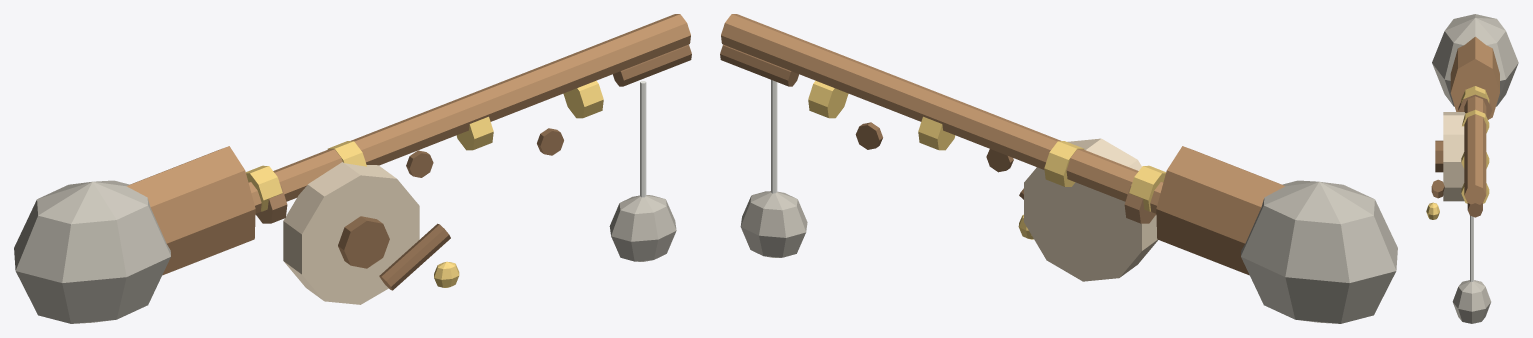
The picture shows the model from 3 angles, left to right: view 1: azimuth 30°, elevation 25°; view 2: azimuth 150°, elevation 25°; view 3: azimuth 270°, elevation 25°; orthographic projection. The views are drawn at different scales.
Visible parts, largest first — view 1: faceted stone pommel, main tapered wooden rod, round cream reel body, rounded handle grip, round stone lure, dark reel hole, short reel arm, dark rod tip, chunky gold binding, chunky gold binding.001, chunky gold binding.003, straight pale fishing line (+5 smaller); view 2: faceted stone pommel, main tapered wooden rod, round cream reel body, rounded handle grip, round stone lure, dark rod tip, chunky gold binding, chunky gold binding.002, chunky gold binding.001, chunky gold binding.003, straight pale fishing line, thick rope grip wrap.002 (+1 smaller); view 3: faceted stone pommel, rounded handle grip, main tapered wooden rod, round cream reel body, round stone lure, dark reel hole, straight pale fishing line, chunky gold binding.001, thick rope grip wrap.002, short reel arm, dark rod tip, chunky gold binding.002 (+3 smaller).
Boxes of the visible parts, <box> form: faceted stone pommel: <box>14,180,170,323</box>; main tapered wooden rod: <box>248,14,690,213</box>; round cream reel body: <box>283,162,419,304</box>; rounded handle grip: <box>127,146,255,275</box>; round stone lure: <box>609,195,676,261</box>; dark reel hole: <box>338,216,389,268</box>; short reel arm: <box>379,223,450,290</box>; dark rod tip: <box>613,44,691,86</box>; chunky gold binding: <box>563,80,603,118</box>; chunky gold binding.001: <box>246,165,282,211</box>; chunky gold binding.003: <box>456,116,493,150</box>; straight pale fishing line: <box>640,81,646,197</box>; faceted stone pommel: <box>1241,180,1397,323</box>; main tapered wooden rod: <box>721,14,1163,213</box>; round cream reel body: <box>1024,138,1157,281</box>; rounded handle grip: <box>1156,146,1284,275</box>; round stone lure: <box>740,191,807,257</box>; dark rod tip: <box>720,44,798,86</box>; chunky gold binding: <box>808,80,848,118</box>; chunky gold binding.002: <box>1044,141,1084,186</box>; chunky gold binding.001: <box>1129,165,1165,211</box>; chunky gold binding.003: <box>918,116,955,150</box>; straight pale fishing line: <box>771,80,777,193</box>; thick rope grip wrap.002: <box>1124,184,1156,223</box>; faceted stone pommel: <box>1432,14,1518,106</box>; rounded handle grip: <box>1450,36,1499,119</box>; main tapered wooden rod: <box>1464,96,1486,204</box>; round cream reel body: <box>1443,112,1465,201</box>; round stone lure: <box>1452,280,1491,323</box>; dark reel hole: <box>1435,140,1443,172</box>; straight pale fishing line: <box>1470,215,1473,281</box>; chunky gold binding.001: <box>1461,86,1489,103</box>; thick rope grip wrap.002: <box>1458,94,1492,119</box>; short reel arm: <box>1431,179,1444,198</box>; dark rod tip: <box>1467,203,1482,217</box>; chunky gold binding.002: <box>1462,109,1489,133</box>.
Bounding box in the file's own units: 2.93 × 0.9849 × 0.5489.
